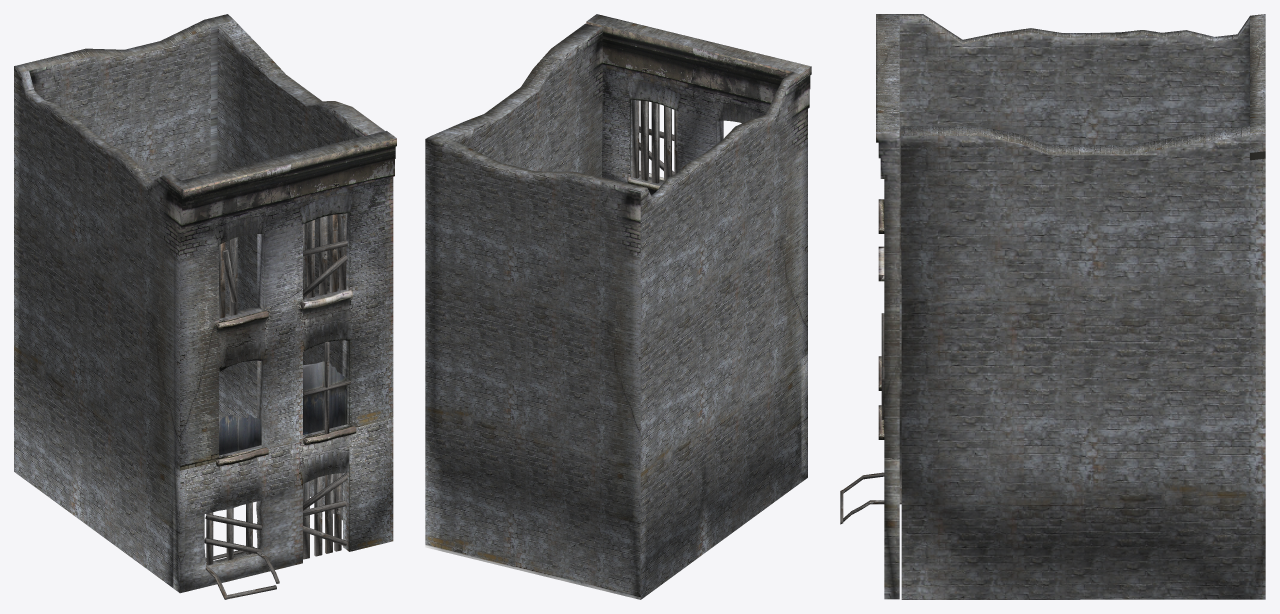
The model's file is war_torn3.obj.
3 renders of one model, left to right at view 1: azimuth 30°, elevation 25°; view 2: azimuth 150°, elevation 25°; view 3: azimuth 270°, elevation 25°, orthographic. The views are drawn at different scales.
Parts seen in each view (by area): view 1: worn_torn3; view 2: worn_torn3; view 3: worn_torn3.
Boxes of the visible parts, x1,y1,x2,y2 form: worn_torn3: (14,14,396,599); worn_torn3: (425,14,811,599); worn_torn3: (840,14,1265,599).
Bounding box in the file's own units: 243 × 441 × 364.
Materials: 1 (1 with a texture image).
